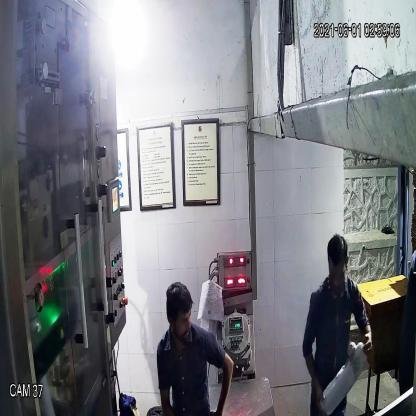no_goggles: (168, 309, 193, 329)
